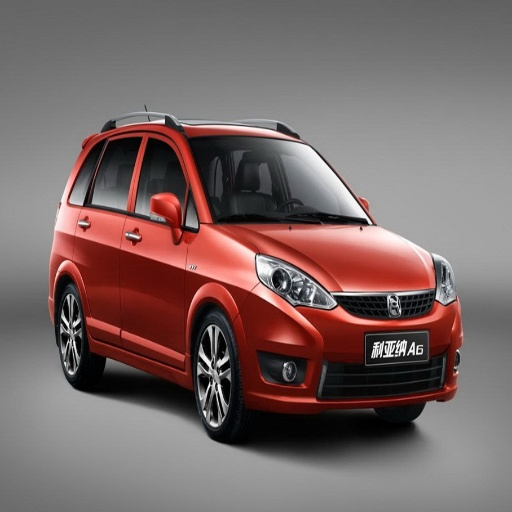front_bumper: (240, 283, 463, 413)
front_right_door: (122, 131, 199, 369)
front_right_light: (255, 254, 335, 308)
